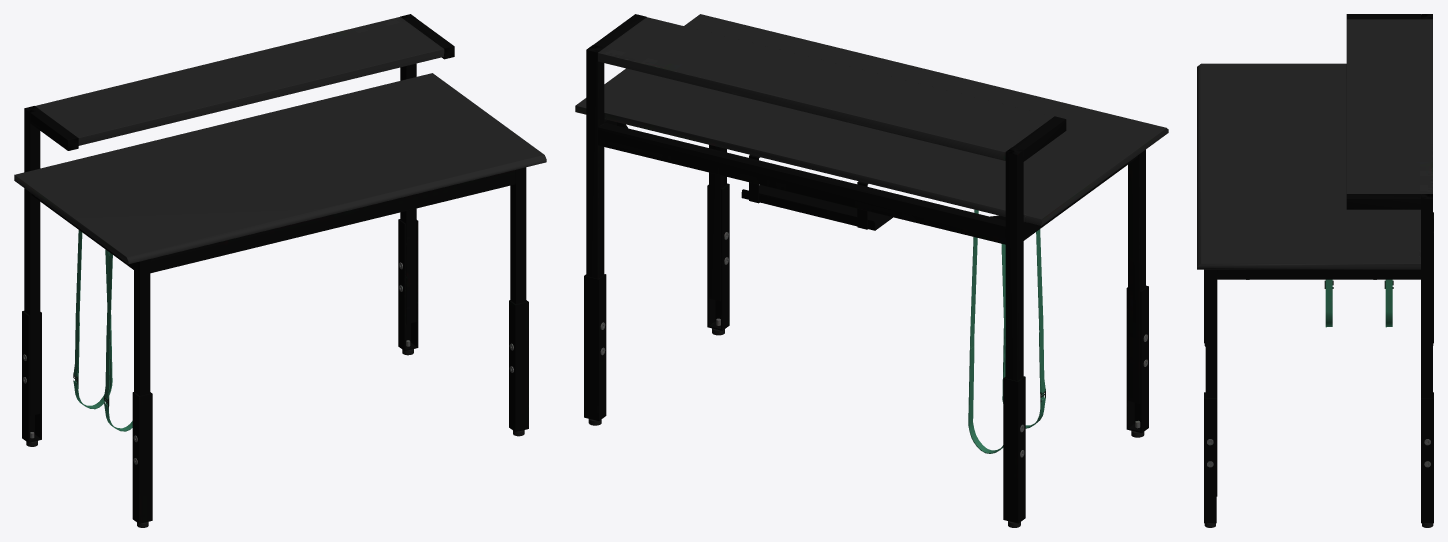
The picture shows the model from 3 angles, left to right: view 1: azimuth 30°, elevation 25°; view 2: azimuth 150°, elevation 25°; view 3: azimuth 270°, elevation 25°; orthographic projection. The views are drawn at different scales.
Visible parts, largest first — view 1: Mesh_0; view 2: Mesh_0; view 3: Mesh_0.
Boxes of the visible parts, x1,y1,x2,y2 form: Mesh_0: (14,14,546,527); Mesh_0: (575,14,1168,527); Mesh_0: (1197,14,1433,527).
Bounding box in the file's own units: 1.2 × 0.9197 × 0.5997.
1 material, 1 textured.
